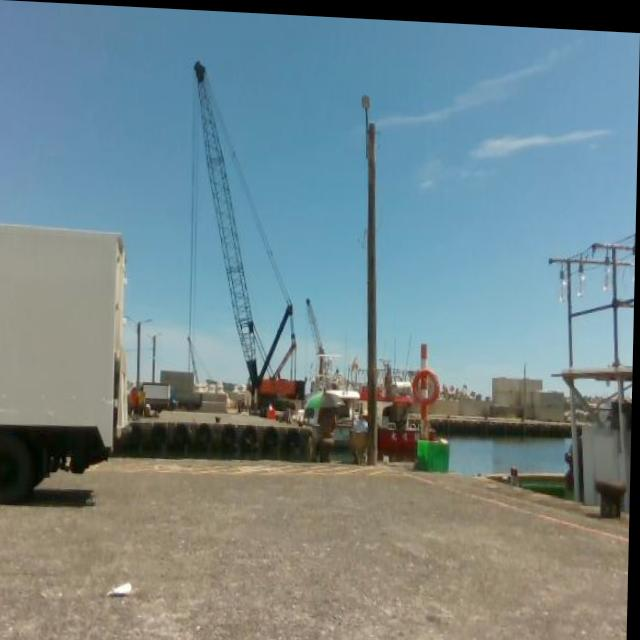pollute: (110, 579, 136, 595)
